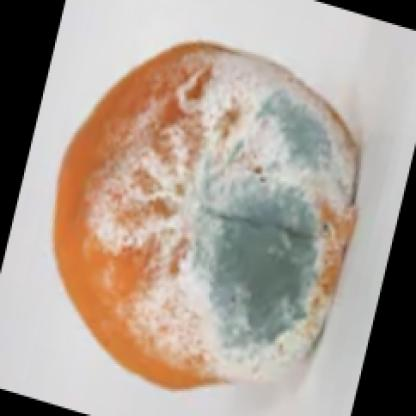rotten: (53, 41, 366, 390)
